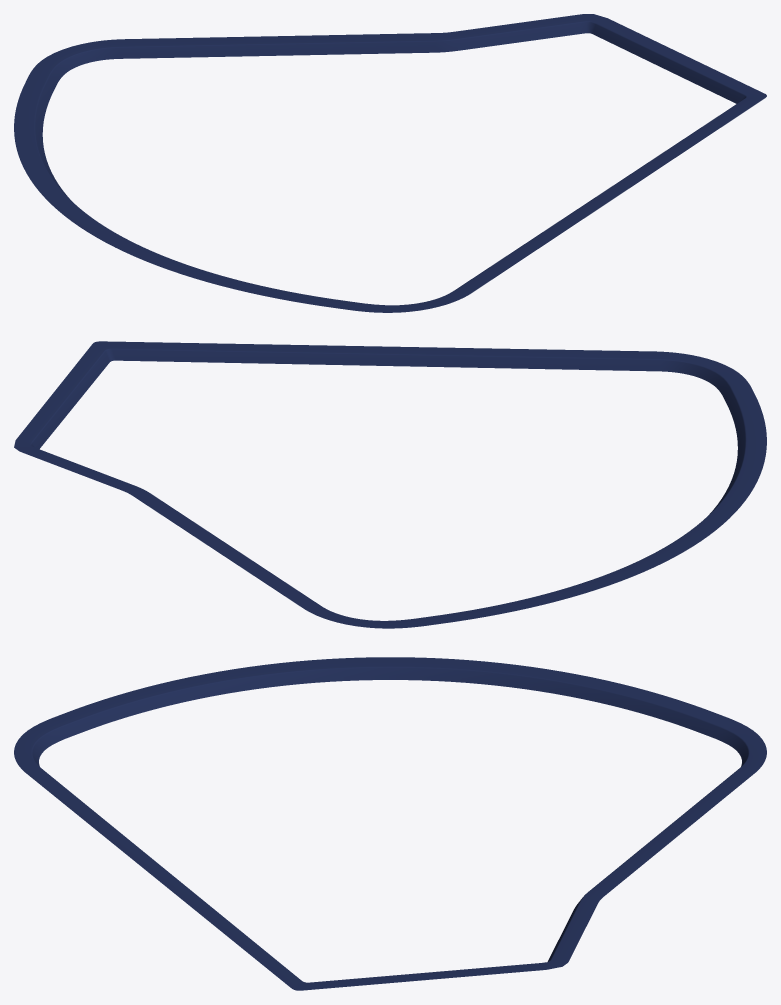
File: CD_JZ_vr_trim01.FBX
3 views of the same model, one above another, from view 1: azimuth 30°, elevation 25°; view 2: azimuth 150°, elevation 25°; view 3: azimuth 270°, elevation 25° (orthographic). The views are drawn at different scales.
Parts seen in each view (by area): view 1: CD_JZ_vr_trim01; view 2: CD_JZ_vr_trim01; view 3: CD_JZ_vr_trim01.
Boxes of the visible parts, x1=… form: CD_JZ_vr_trim01: x1=14, y1=14, x2=766, y2=312; CD_JZ_vr_trim01: x1=14, y1=341, x2=766, y2=628; CD_JZ_vr_trim01: x1=14, y1=657, x2=766, y2=990.
Size of the model in its own units: 3440 by 3281 by 45.18.
